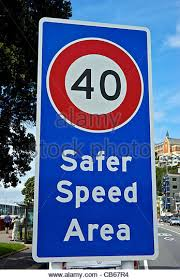Speed_limit_40km: (47, 38, 146, 135)
